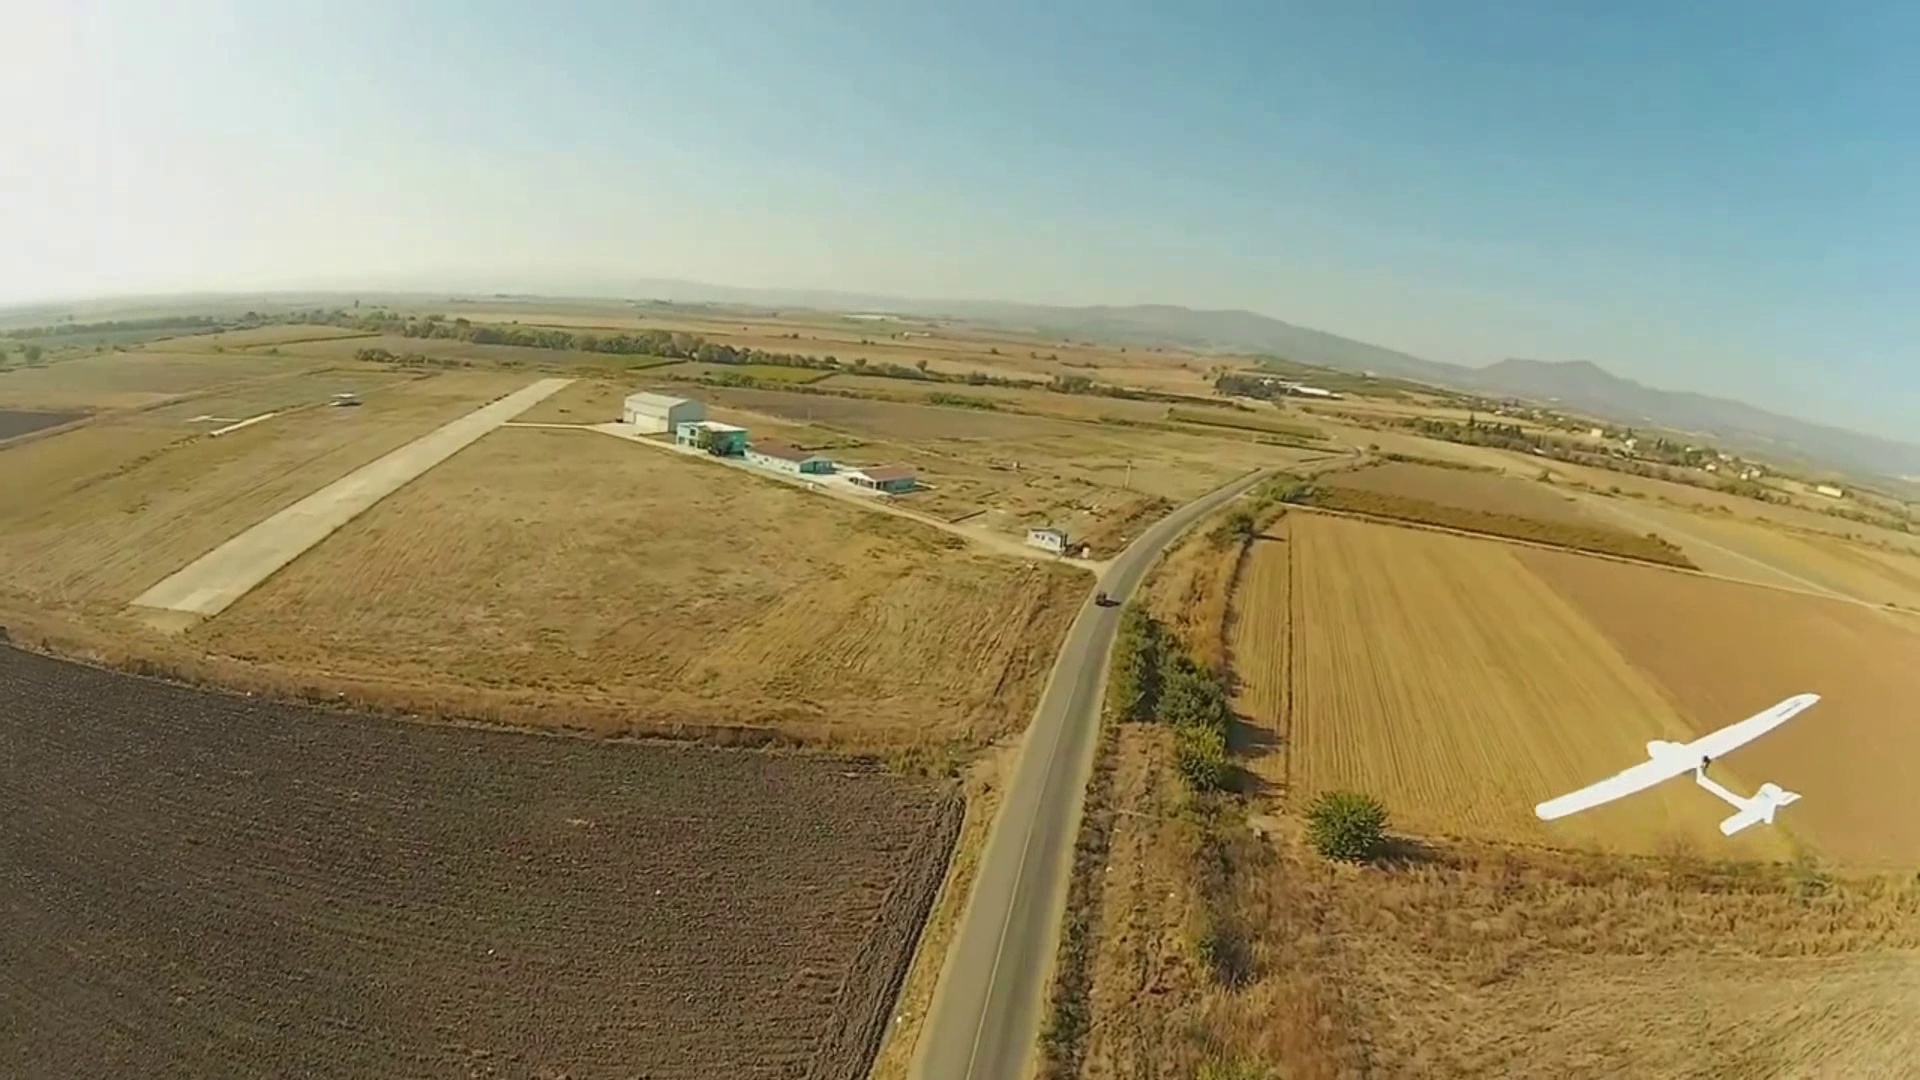airplane: (1534, 688, 1822, 843)
